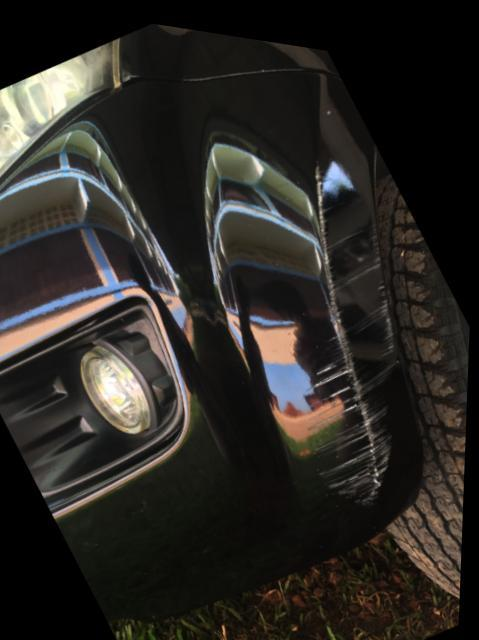scratch: (304, 149, 405, 492)
